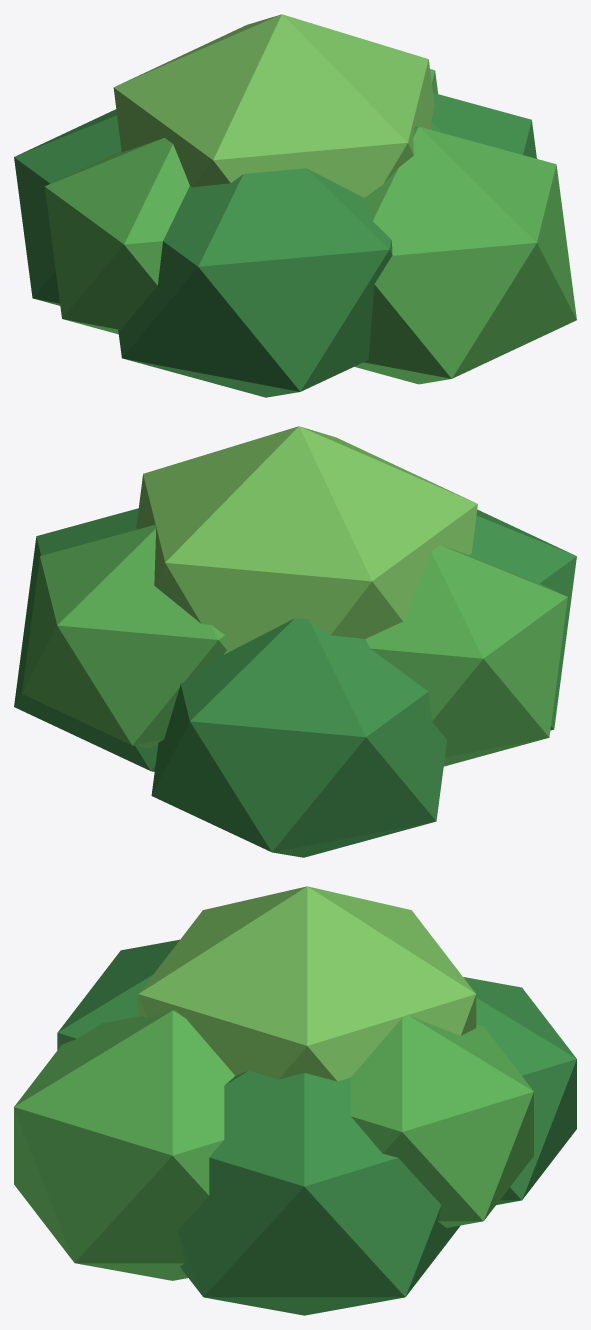
The model's file is bush-round-b.glb.
3 views of the same model, one above another, from view 1: azimuth 30°, elevation 25°; view 2: azimuth 150°, elevation 25°; view 3: azimuth 270°, elevation 25° (orthographic). The views are drawn at different scales.
Visible parts, largest first — view 1: bush-round-b; view 2: bush-round-b; view 3: bush-round-b.
Part boxes in pixels (x1,y1,x2,y2): bush-round-b: (14,14,576,397); bush-round-b: (14,426,576,857); bush-round-b: (14,886,576,1315).
Size of the model in its own units: 1.45 by 1.04 by 1.42.
